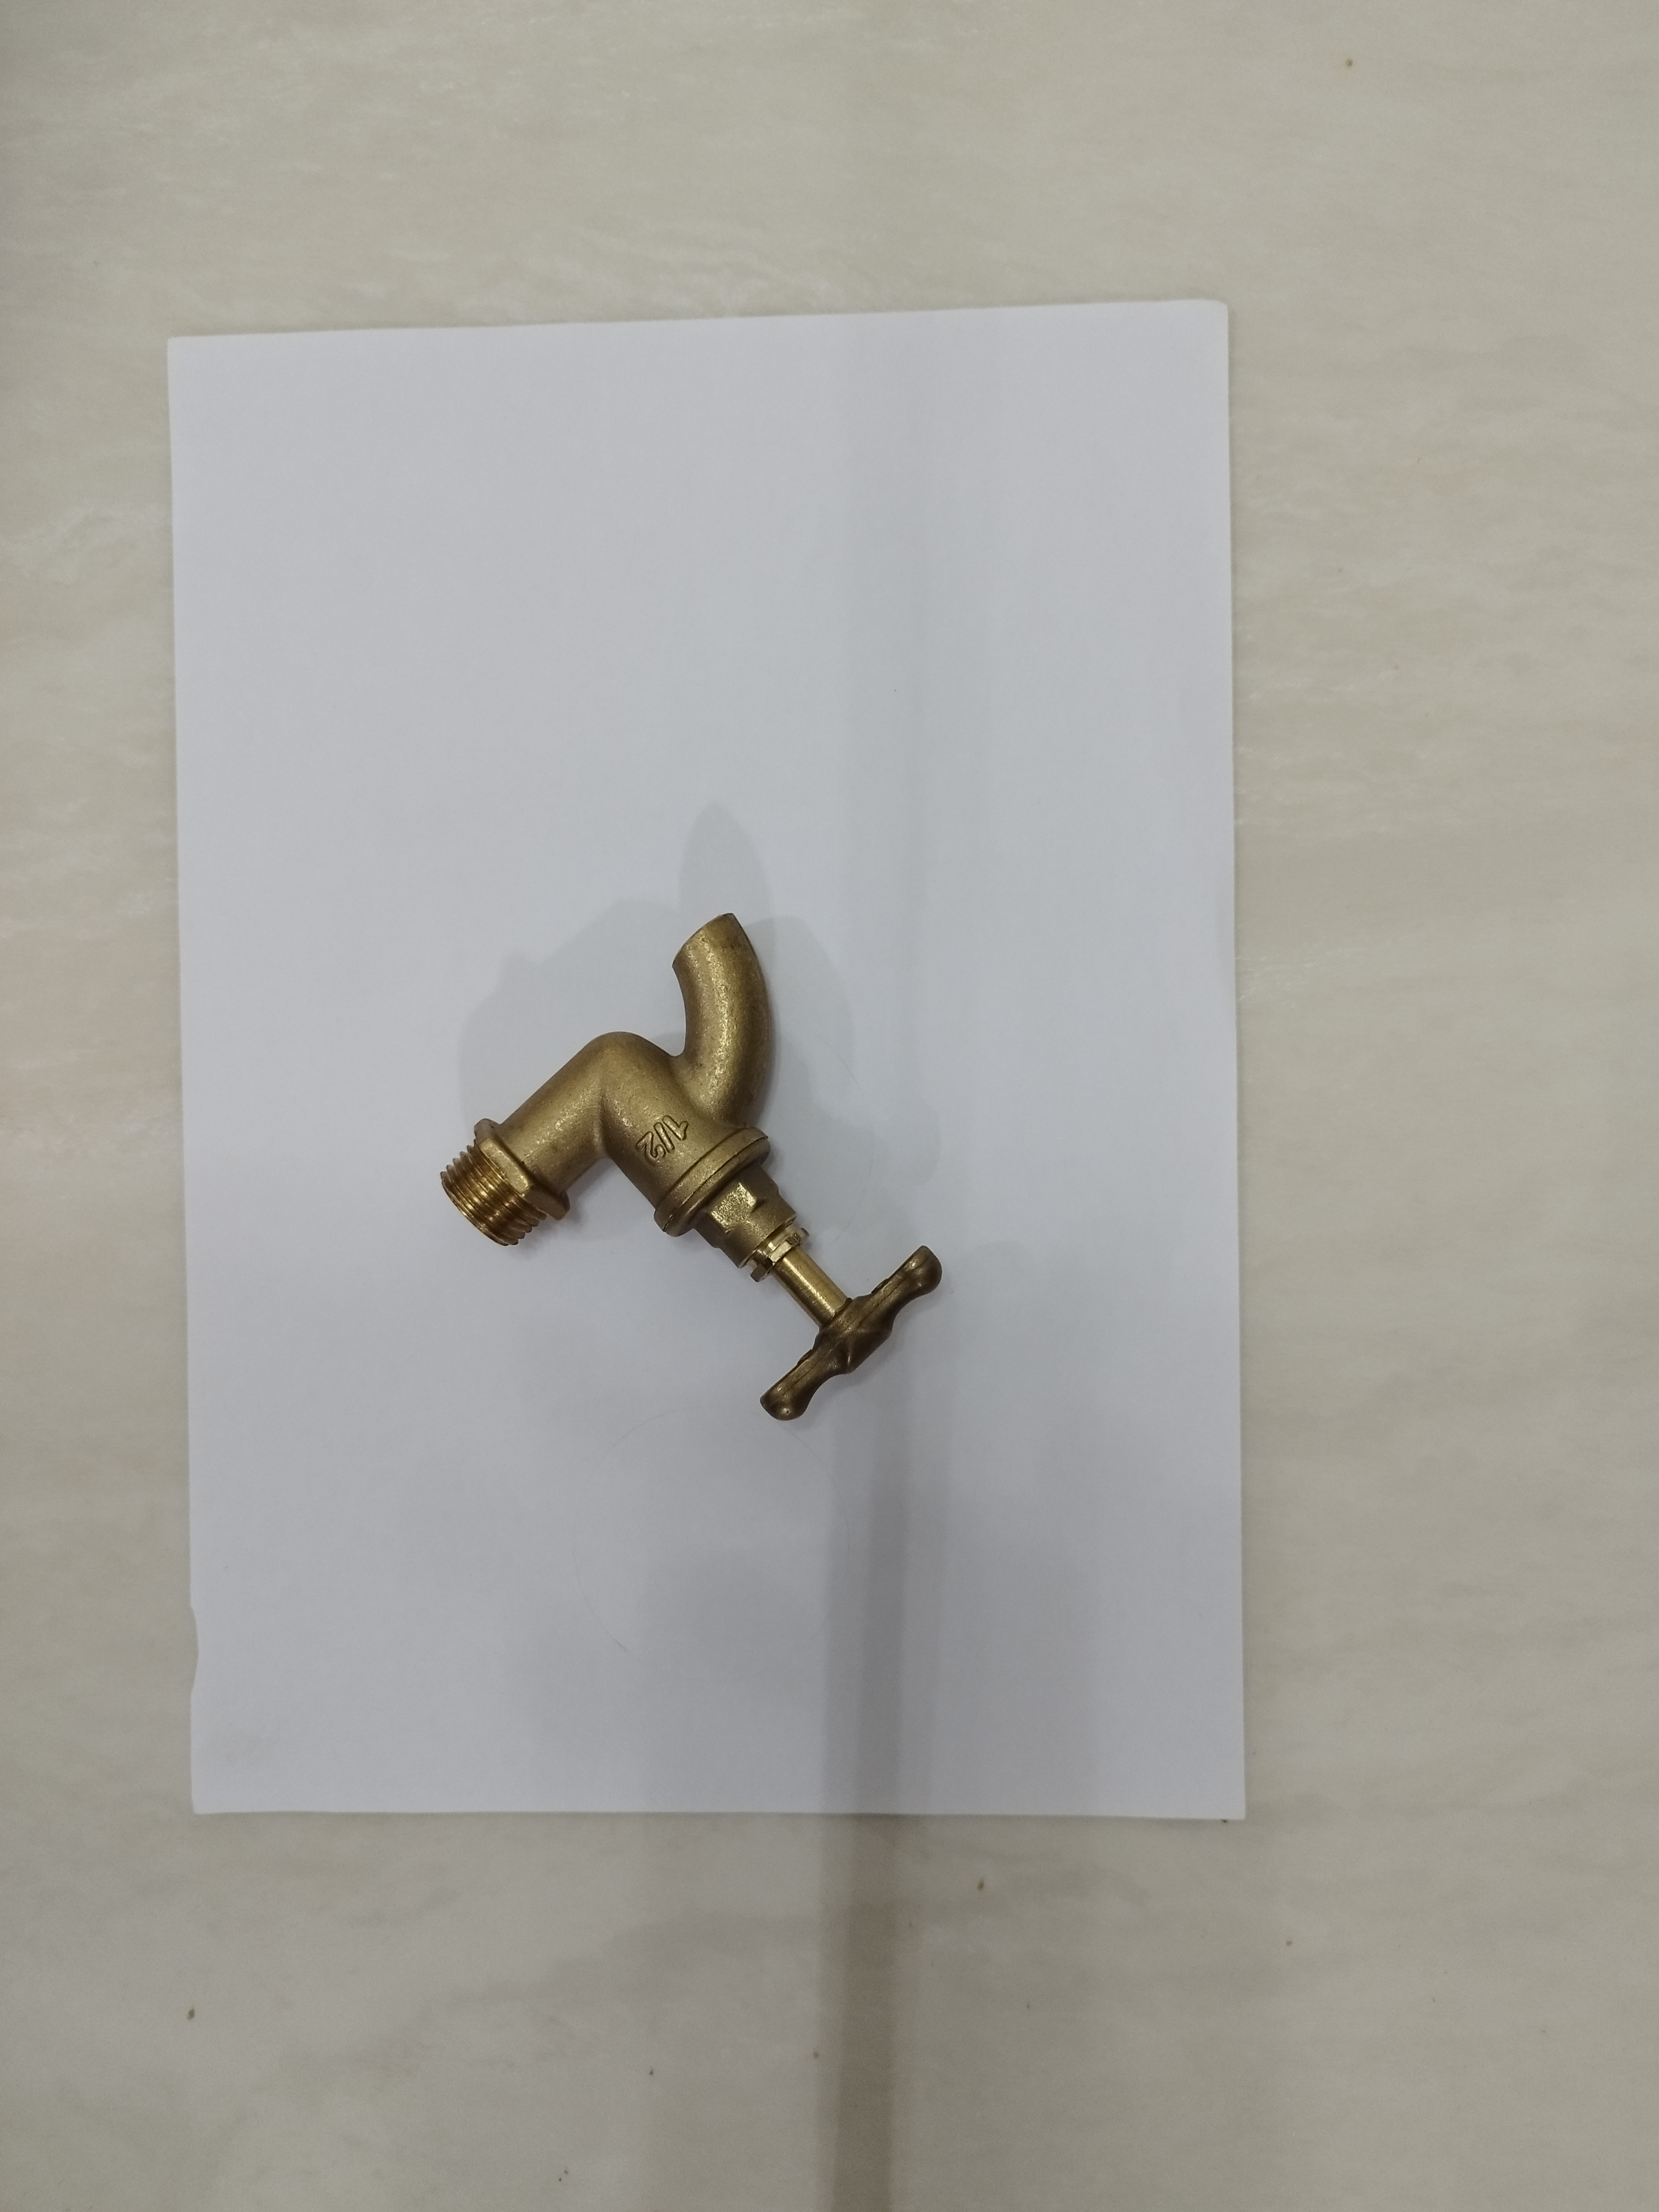brass_water_tap: (427, 900, 951, 1437)
